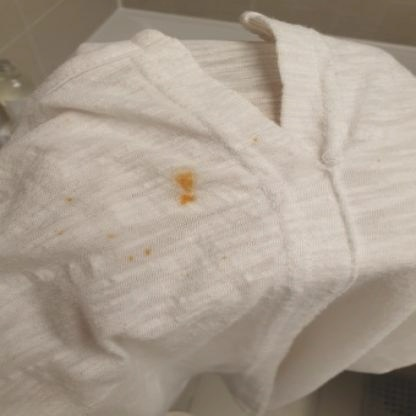kimchi: (173, 169, 195, 205), (142, 241, 155, 259), (103, 231, 120, 242), (123, 257, 138, 264), (59, 226, 69, 236), (250, 130, 261, 139), (65, 196, 75, 205), (218, 253, 227, 261)
